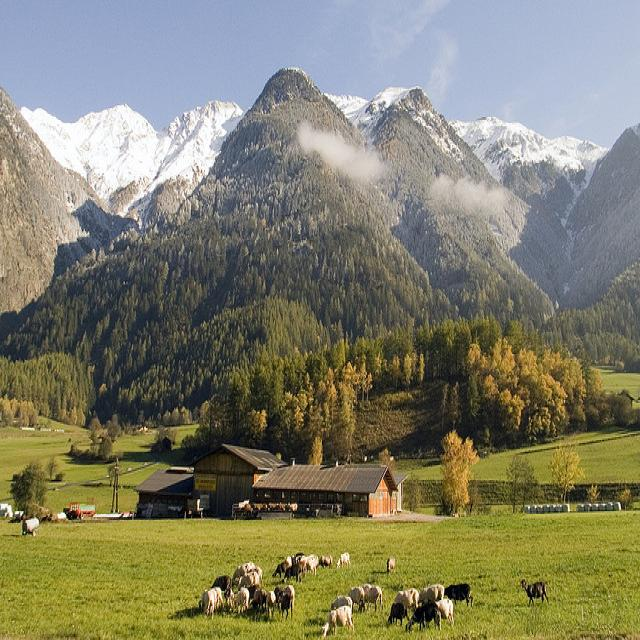Vehicle: (62, 496, 96, 520)
